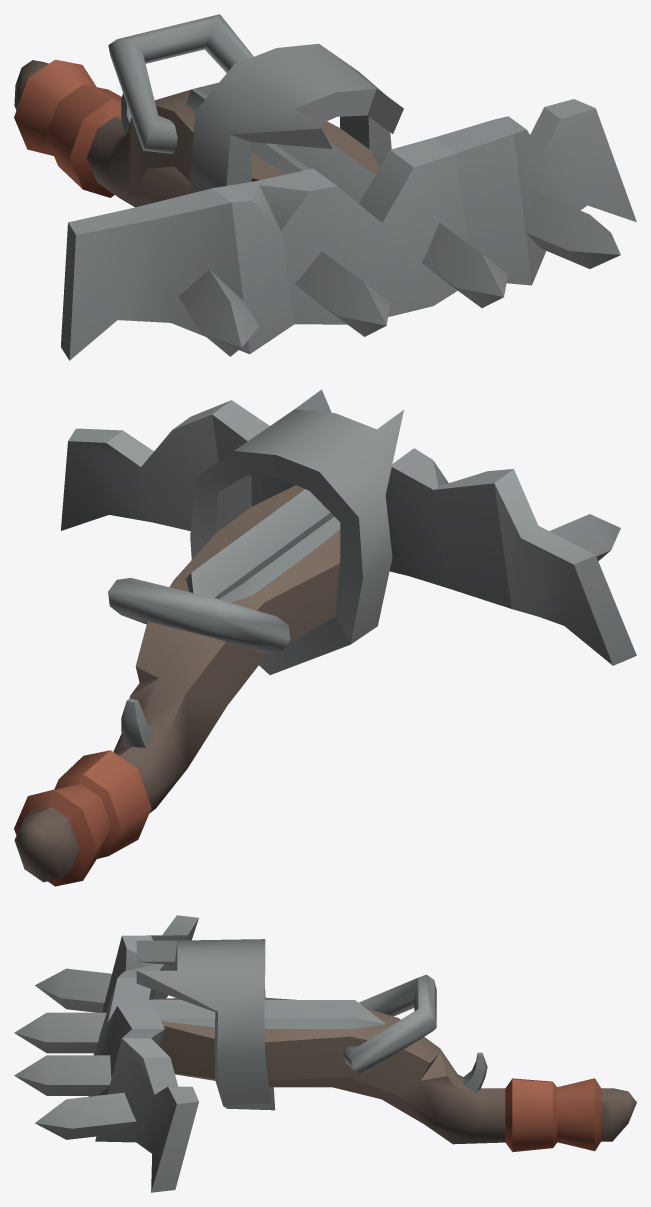
The model's file is skel_crossbow.glb.
3 renders of one model, top to bottom at view 1: azimuth 30°, elevation 25°; view 2: azimuth 150°, elevation 25°; view 3: azimuth 270°, elevation 25°, orthographic. The views are drawn at different scales.
Visible parts, largest first — view 1: Skeleton_Crossbow; view 2: Skeleton_Crossbow; view 3: Skeleton_Crossbow.
Part boxes in pixels (x1=…): Skeleton_Crossbow: x1=14, y1=14, x2=636, y2=360; Skeleton_Crossbow: x1=14, y1=389, x2=636, y2=886; Skeleton_Crossbow: x1=14, y1=915, x2=636, y2=1192.
Size of the model in its own units: 1.11 by 0.5082 by 1.42.
Materials: 1 (1 with a texture image).
